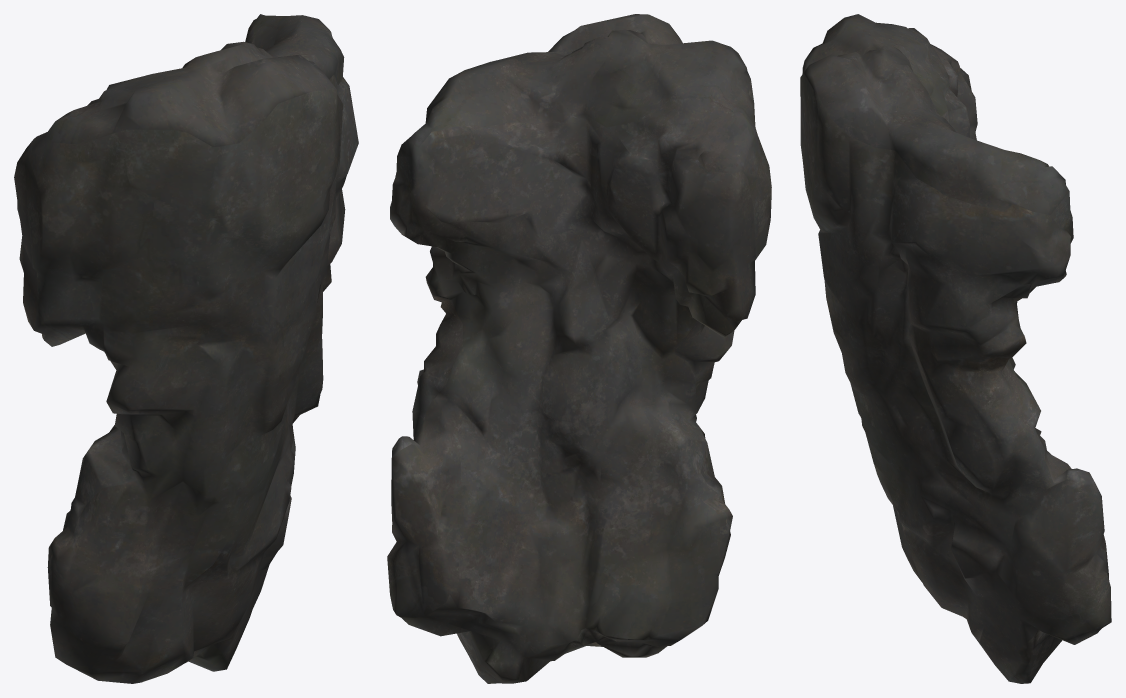
The model's file is Cliff_W2_06.fbx.
The picture shows the model from 3 angles, left to right: view 1: azimuth 30°, elevation 25°; view 2: azimuth 150°, elevation 25°; view 3: azimuth 270°, elevation 25°; orthographic projection. The views are drawn at different scales.
Visible parts, largest first — view 1: SM_W2_Cliff_06.mo; view 2: SM_W2_Cliff_06.mo; view 3: SM_W2_Cliff_06.mo.
Part boxes in pixels (bbox=[...]): SM_W2_Cliff_06.mo: bbox=[14, 14, 358, 683]; SM_W2_Cliff_06.mo: bbox=[387, 14, 771, 683]; SM_W2_Cliff_06.mo: bbox=[800, 14, 1111, 683].
Bounding box in the file's own units: 2919 × 5603 × 2611.
Materials: 1 (1 with a texture image).
